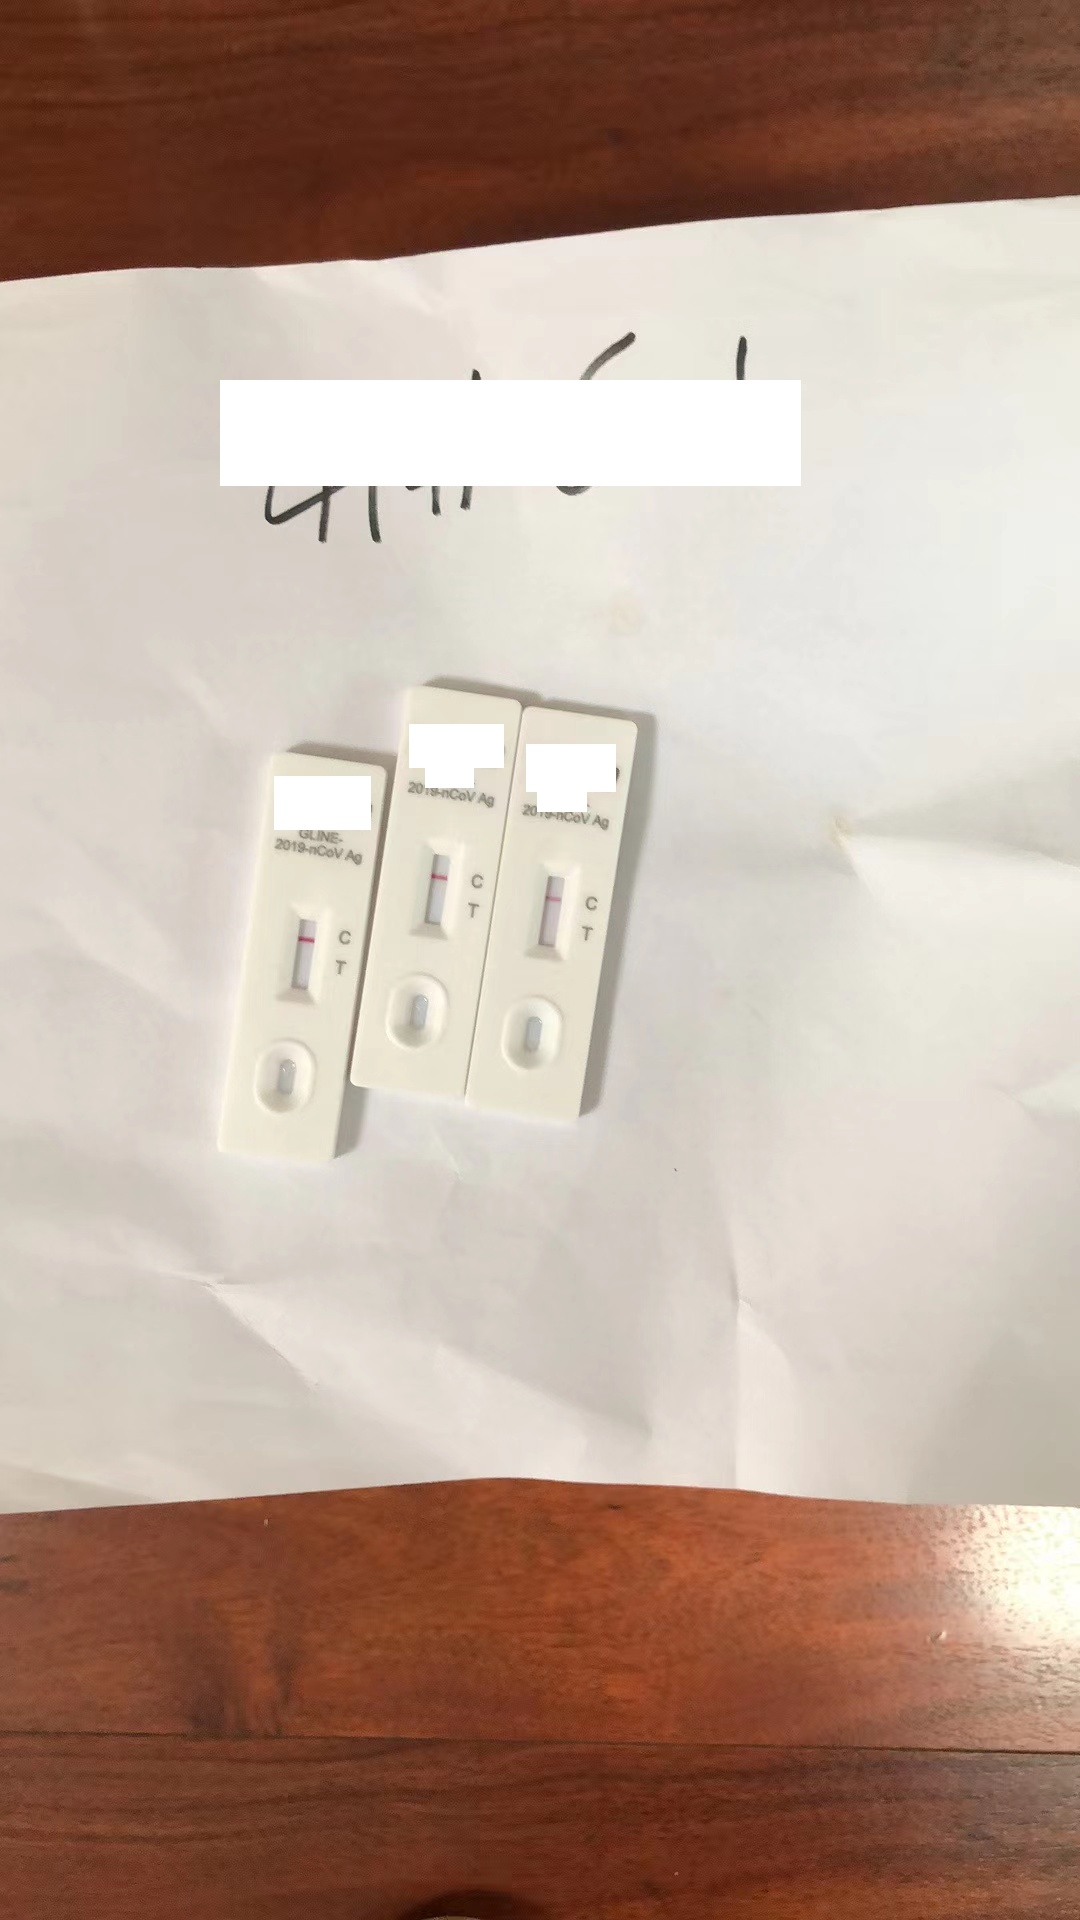negative: (411, 835, 460, 934), (284, 894, 324, 1000)
